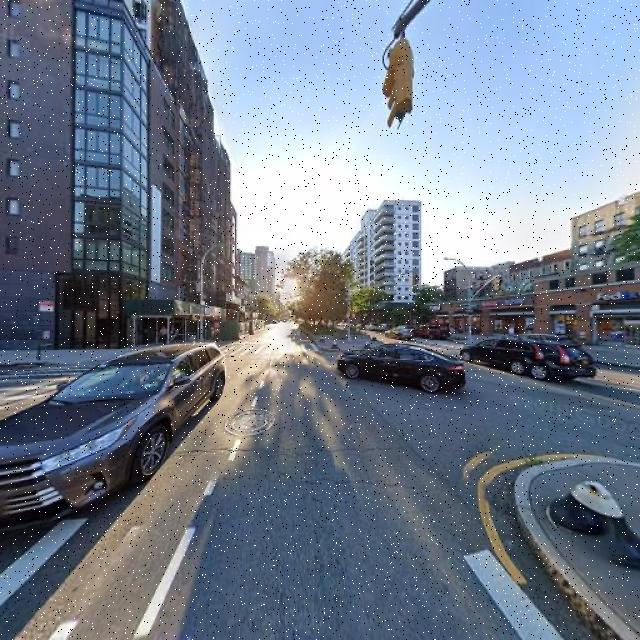Building: (1, 1, 234, 350), (414, 278, 640, 353)
